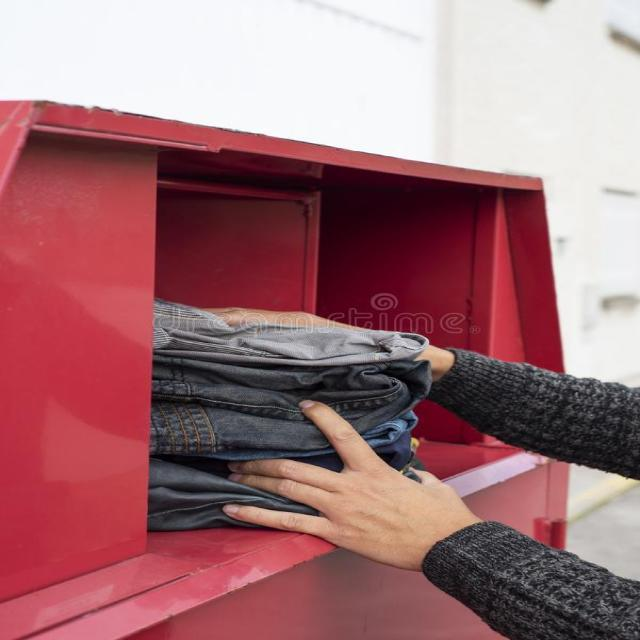clothes: (138, 323, 424, 524)
